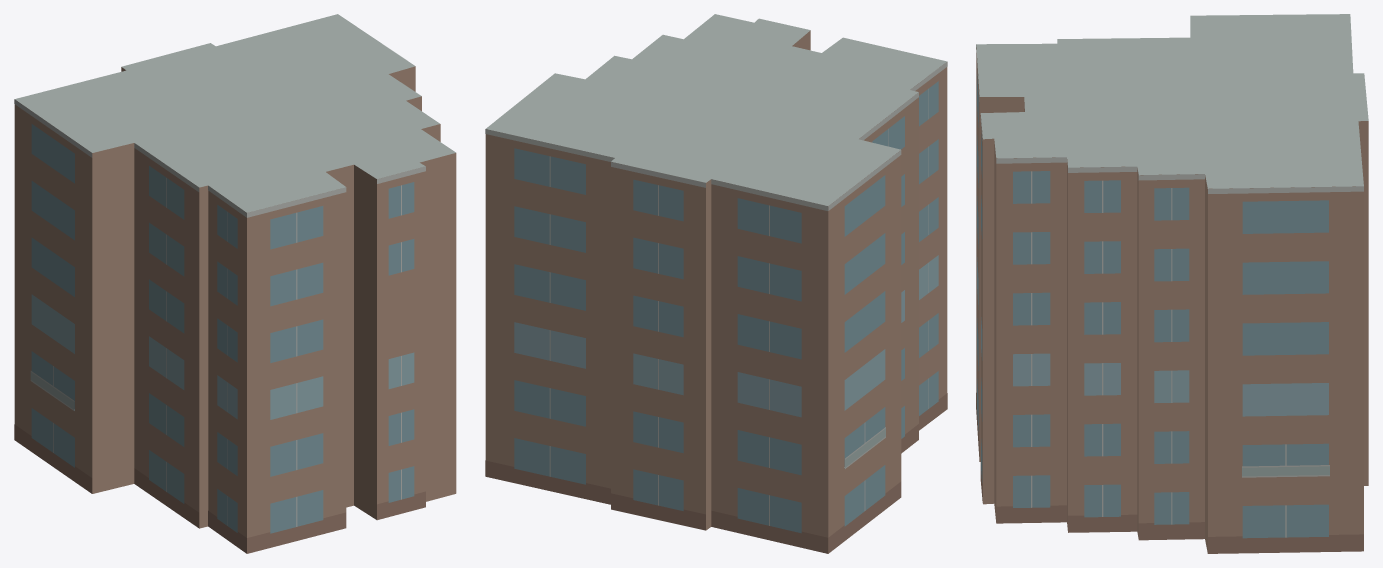
Rendered from survey-upis-32948986.glb.
The picture shows the model from 3 angles, left to right: view 1: azimuth 30°, elevation 25°; view 2: azimuth 150°, elevation 25°; view 3: azimuth 270°, elevation 25°; orthographic projection. The views are drawn at different scales.
Visible parts, largest first — view 1: survey-upis-32948986.tmp; view 2: survey-upis-32948986.tmp; view 3: survey-upis-32948986.tmp.
Part boxes in pixels (x1,y1,x2,y2): survey-upis-32948986.tmp: (14,14,456,553); survey-upis-32948986.tmp: (485,14,947,553); survey-upis-32948986.tmp: (976,14,1368,553).
Bounding box in the file's own units: 17.16 × 16.7 × 16.28.
